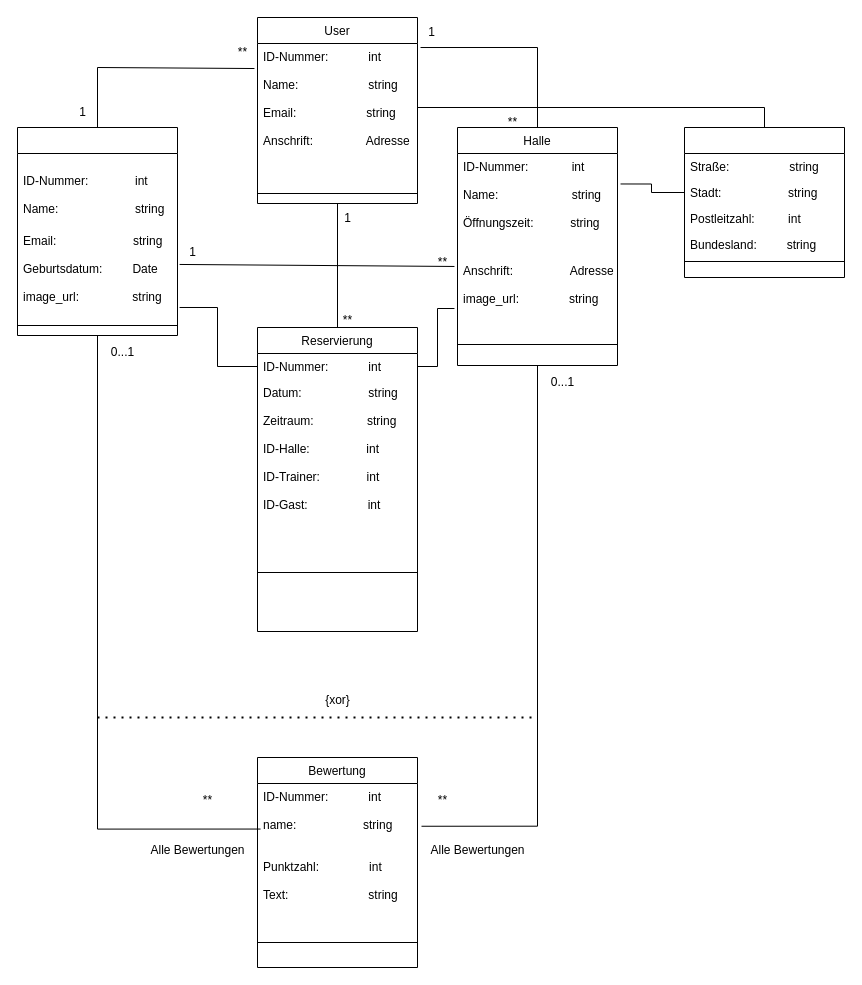
This 862x985 diagram has some shape labels left out. The shapes that lost their labels are listed below. From the top down, each one's box as (x1, y1, x2, y2) in pixels, then its label:
(684, 126, 844, 278): Adresse
(16, 126, 178, 336): Trainer
